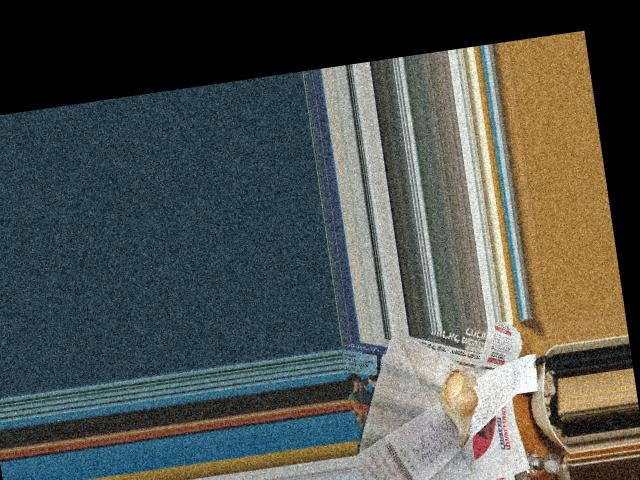onion: (437, 369, 478, 434)
